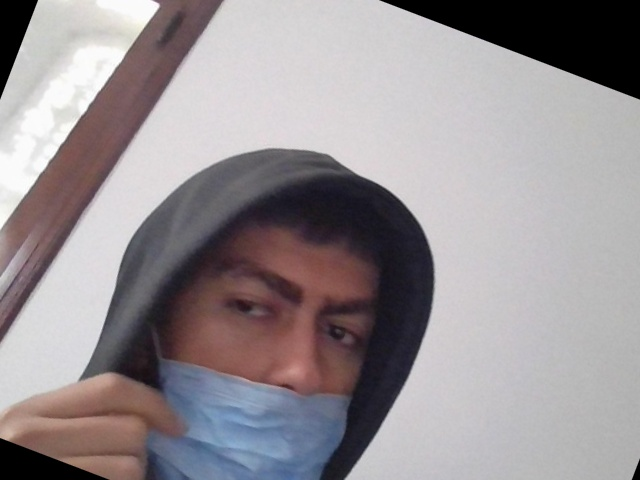mask_weared_incorrect: (160, 182, 378, 480)
